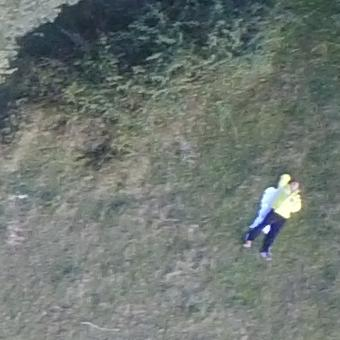human: (239, 170, 307, 262)
